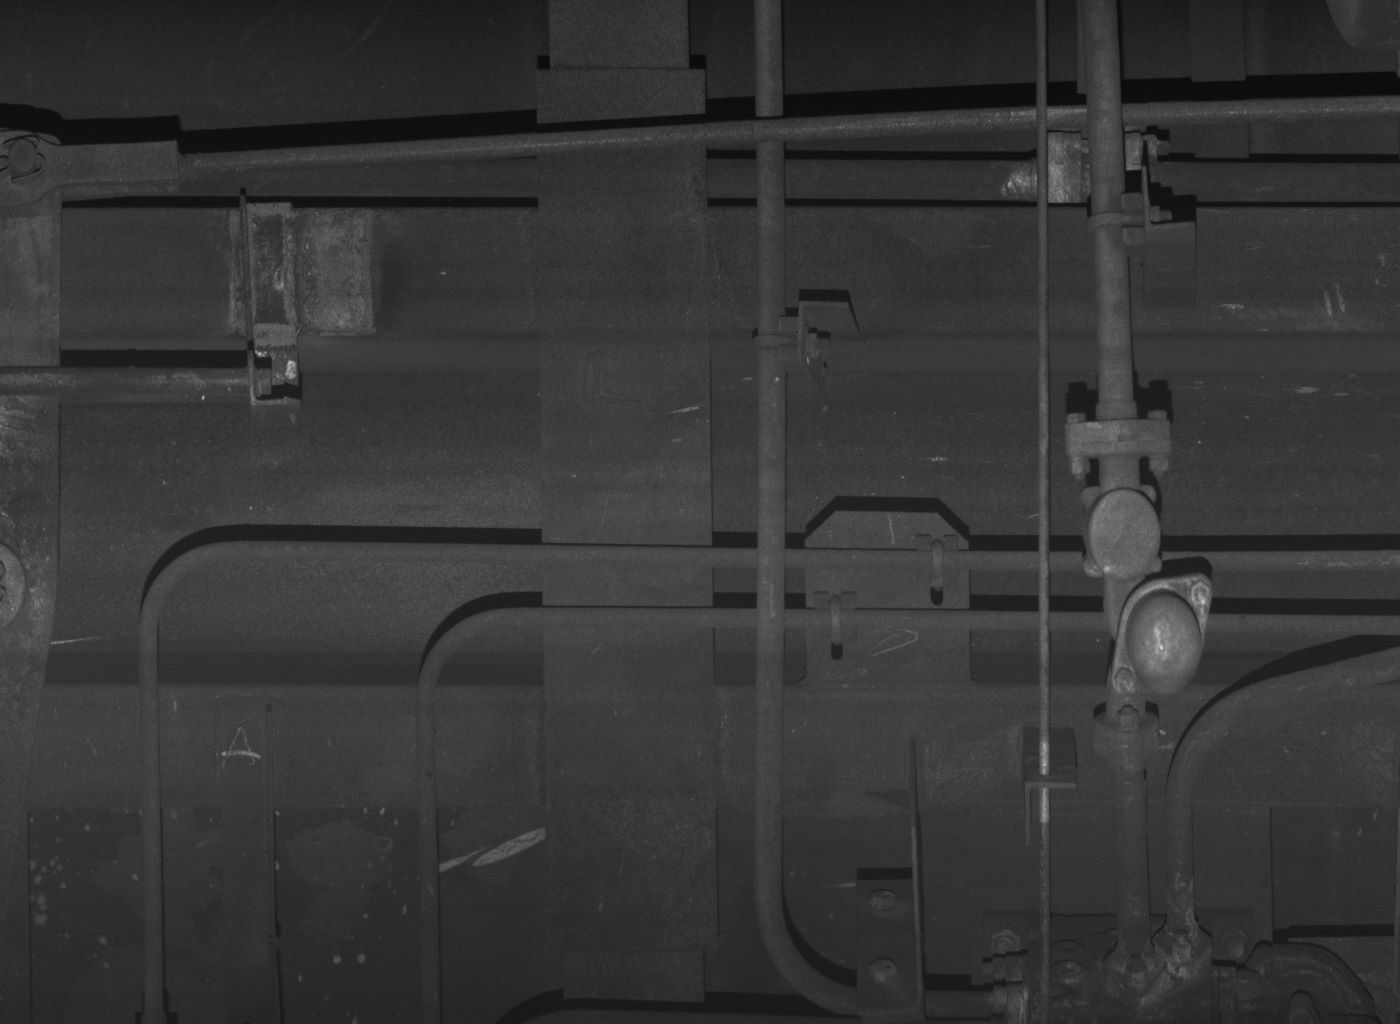normal: (1082, 484, 1162, 579)
